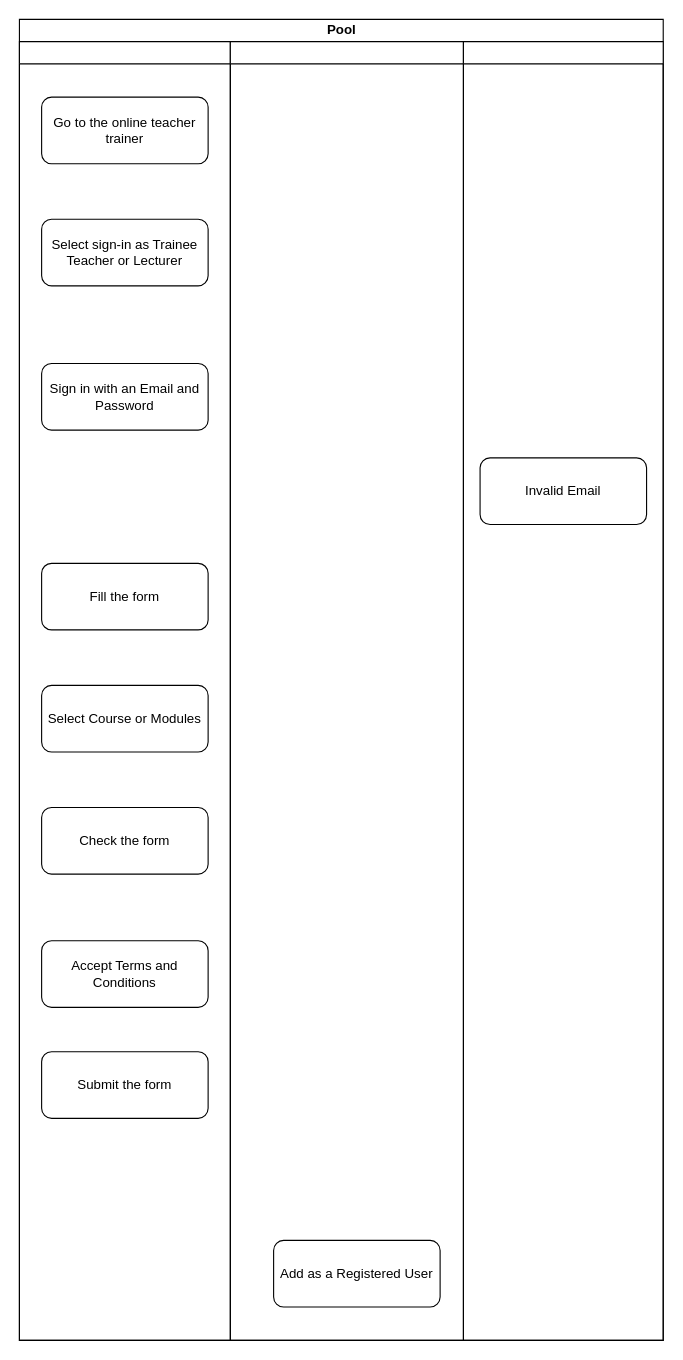
Image size: 683x1360. Some labels were removed from this diagram. Each missing label, with the box of its shape:
Admin: (229, 41, 463, 1340)
System: (462, 41, 663, 1340)
Unregister User: (18, 41, 230, 1340)
